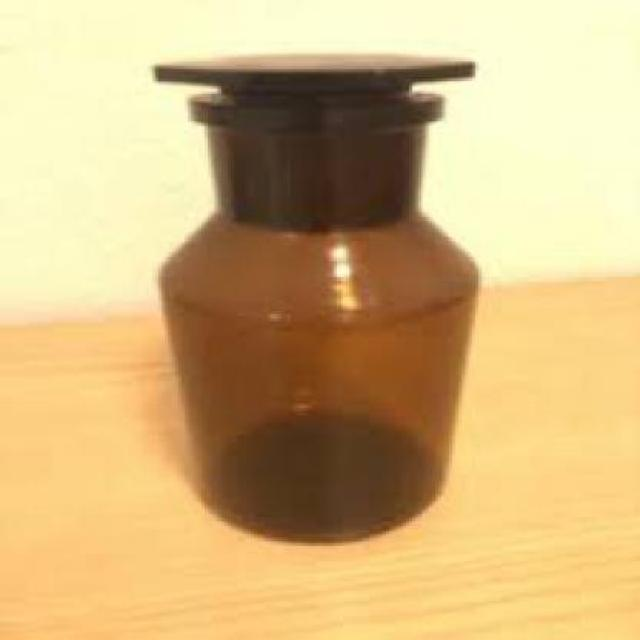kaca: (148, 55, 475, 537)
